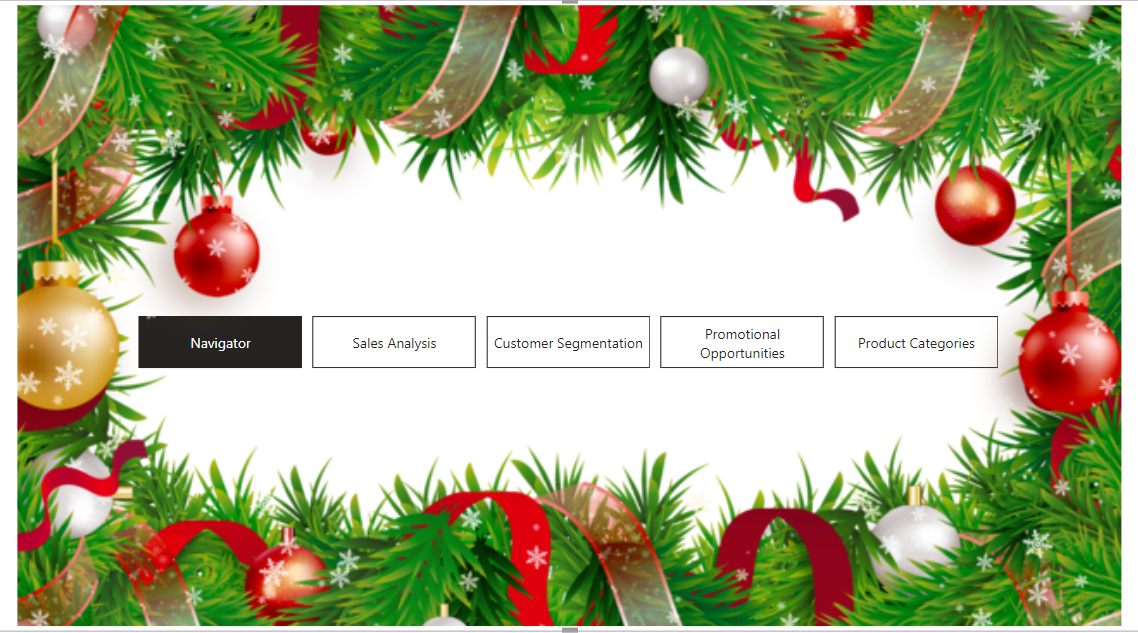

The dashboard page shown, as its layout file describes it:
{"tool":"powerbi","page":{"name":"Navigator","canvas":[1280,720],"ordinal":0},"visuals":[{"type":"pageNavigator","box":[226.7,318.3,828.3,50],"z":0},{"type":"image","box":[0,15,1280,606.7],"z":1}]}

Visuals, with their boxes in screenshot pixels (x1, y1, x2, y2), scaled from the page's 1280x720 canvas onto the 1138x633 screenshot:
pageNavigator: 202, 280, 938, 324
image: 0, 13, 1137, 547
